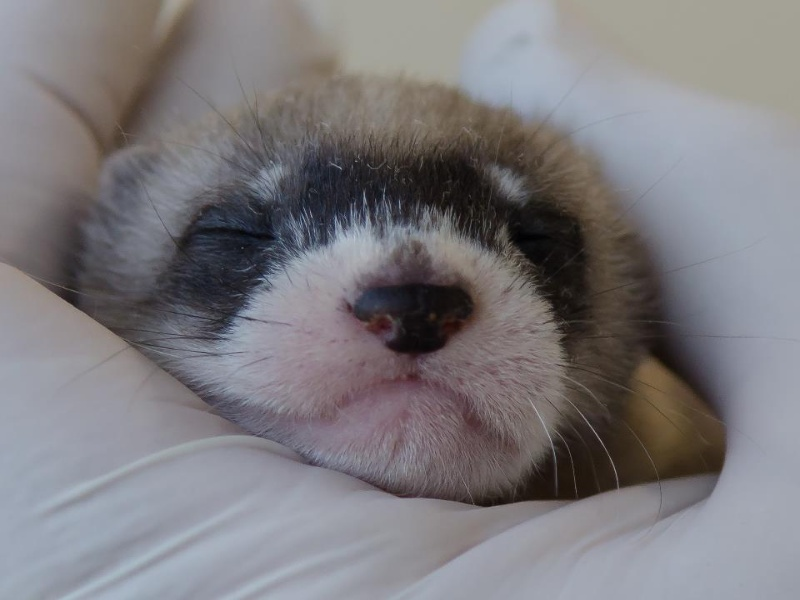minkish: (60, 80, 657, 507)
